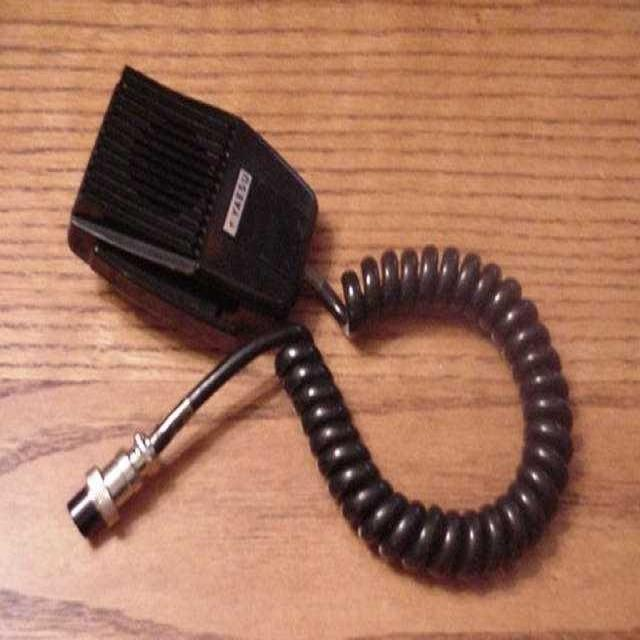microphone: (67, 56, 325, 298)
